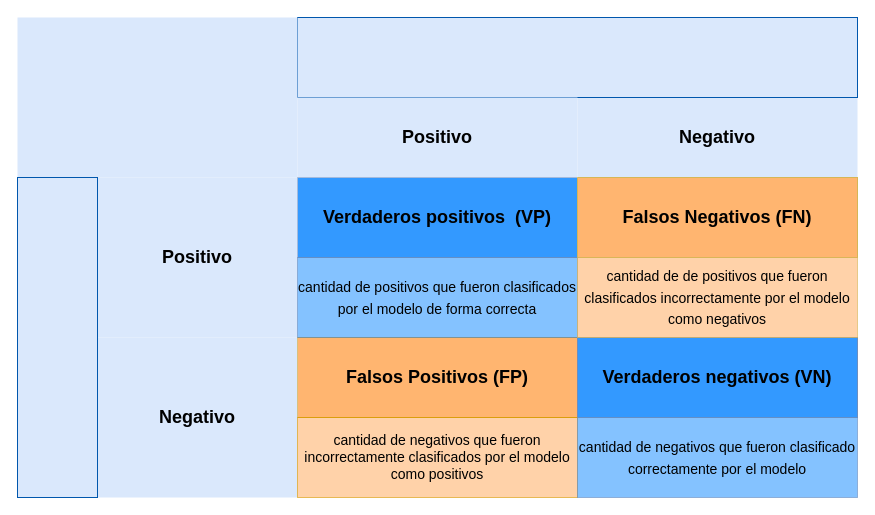
Image size: 875x515. Some labels were removed from this diagram. Each missing label, with the box of its shape:
Predicción del modelo de Y: (296, 16, 858, 98)
Valores observados de Y: (16, 176, 98, 498)
